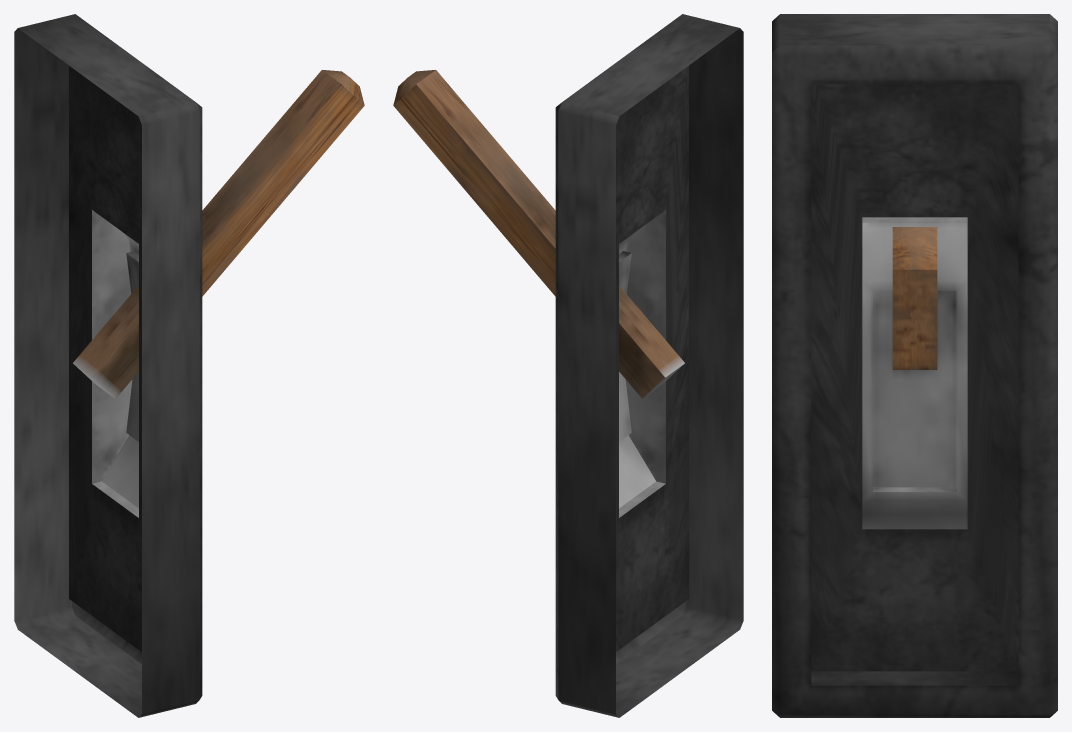
File: Lever.glb
3 renders of one model, left to right at view 1: azimuth 30°, elevation 25°; view 2: azimuth 150°, elevation 25°; view 3: azimuth 270°, elevation 25°, orthographic. The views are drawn at different scales.
Parts seen in each view (by area): view 1: Fulcrum, Lever; view 2: Fulcrum, Lever; view 3: Fulcrum, Lever.
Boxes of the visible parts, x1=… form: Fulcrum: x1=14, y1=14, x2=202, y2=717; Lever: x1=73, y1=70, x2=364, y2=398; Fulcrum: x1=555, y1=14, x2=743, y2=717; Lever: x1=393, y1=70, x2=684, y2=398; Fulcrum: x1=772, y1=14, x2=1057, y2=717; Lever: x1=892, y1=227, x2=937, y2=369.
Bounding box in the file's own units: 0.0208 × 0.0431 × 0.0166.
Materials: 1 (1 with a texture image).
